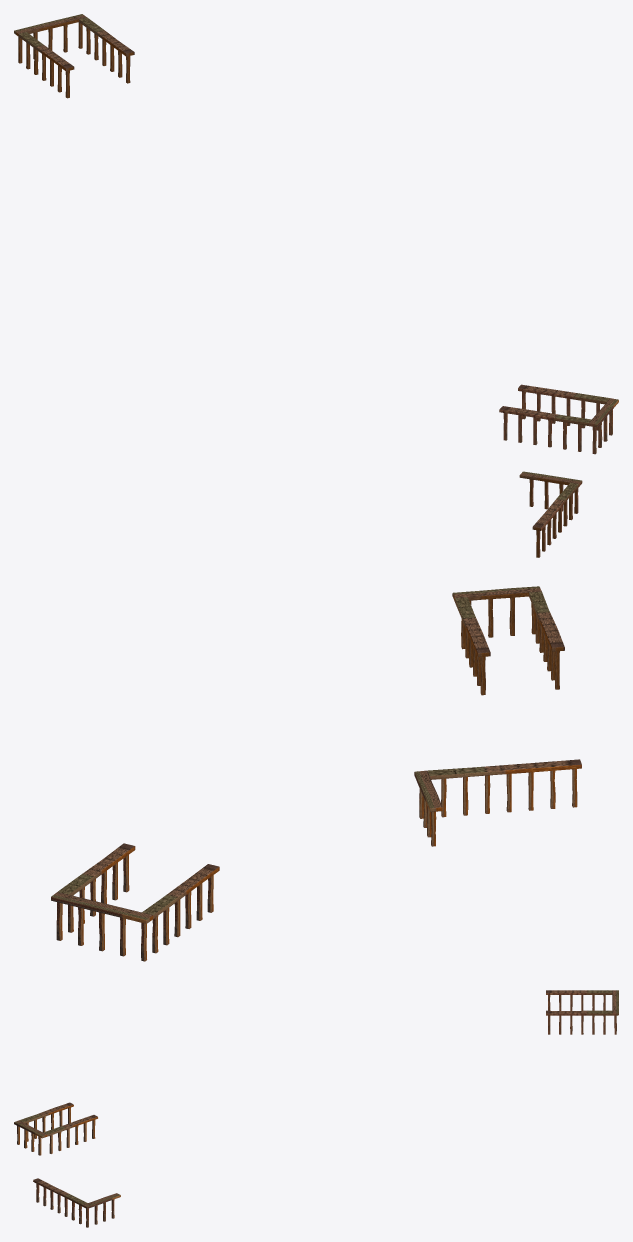
The model's file is M8_Dynamic1Wood_0_1kg.fbx.
3 renders of one model, top to bottom at view 1: azimuth 30°, elevation 25°; view 2: azimuth 150°, elevation 25°; view 3: azimuth 270°, elevation 25°, orthographic. The views are drawn at different scales.
Parts seen in each view (by area): view 1: no part large enough to name; view 2: D1Box14, D1Box12, D1Box38, D1Box11, D1Box27, D1Box52, D1Box26, D1Box13; view 3: D1Box11.
Part boxes in pixels (<box>): D1Box14: <box>427,759,581,779</box>; D1Box12: <box>51,892,153,923</box>; D1Box38: <box>142,864,219,918</box>; D1Box11: <box>58,843,135,895</box>; D1Box27: <box>454,597,490,656</box>; D1Box52: <box>529,591,564,651</box>; D1Box26: <box>452,586,541,600</box>; D1Box13: <box>414,770,442,811</box>; D1Box11: <box>546,1010,612,1015</box>.
Size of what is drawn, in the model's own units: 14.11 by 17.41 by 54.64.
